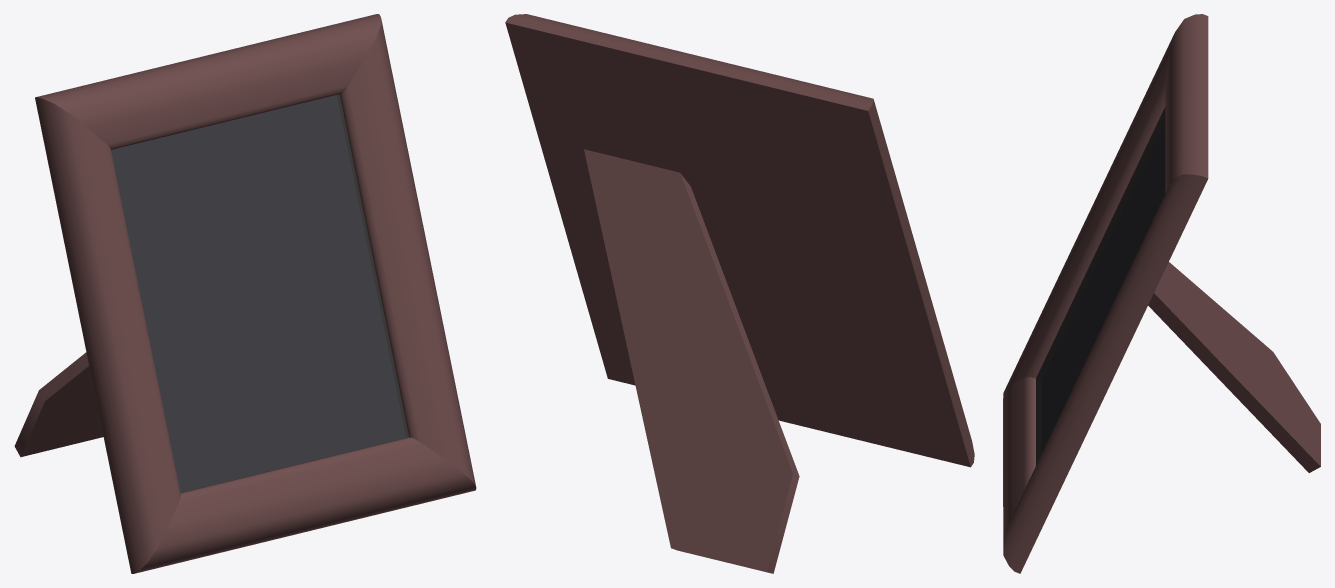
Rendered from SM_Frame_Picture.fbx.
3 renders of one model, left to right at view 1: azimuth 30°, elevation 25°; view 2: azimuth 150°, elevation 25°; view 3: azimuth 270°, elevation 25°, orthographic. The views are drawn at different scales.
Parts seen in each view (by area): view 1: SM_Frame_Picture; view 2: SM_Frame_Picture; view 3: SM_Frame_Picture.
Boxes of the visible parts, box(x1,y1,x2,y2) form: SM_Frame_Picture: box(14, 14, 476, 573); SM_Frame_Picture: box(505, 14, 974, 573); SM_Frame_Picture: box(1003, 14, 1320, 573).
Size of the model in its own units: 697 by 799 by 577.
